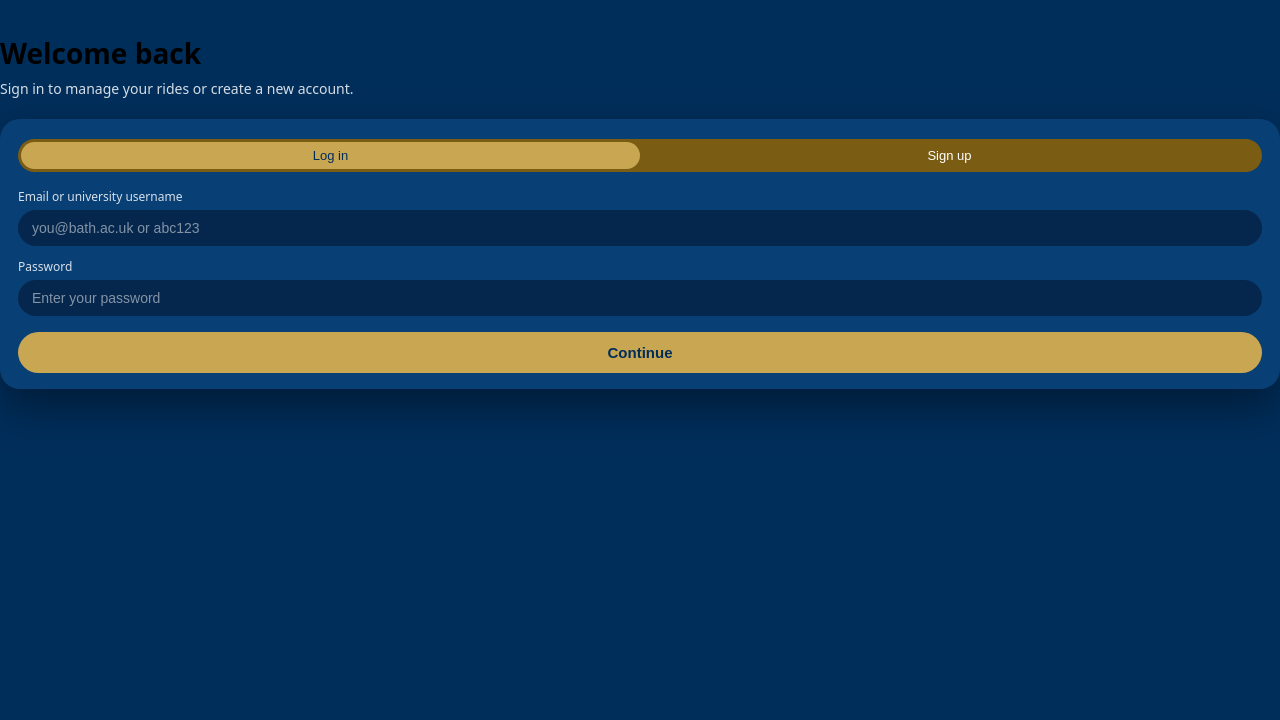
Test: LoginPage Component › shows an error if the signup form is missing first or last name
Click the button "Sign up". click: (950, 156)
box: [640,142,1259,169]
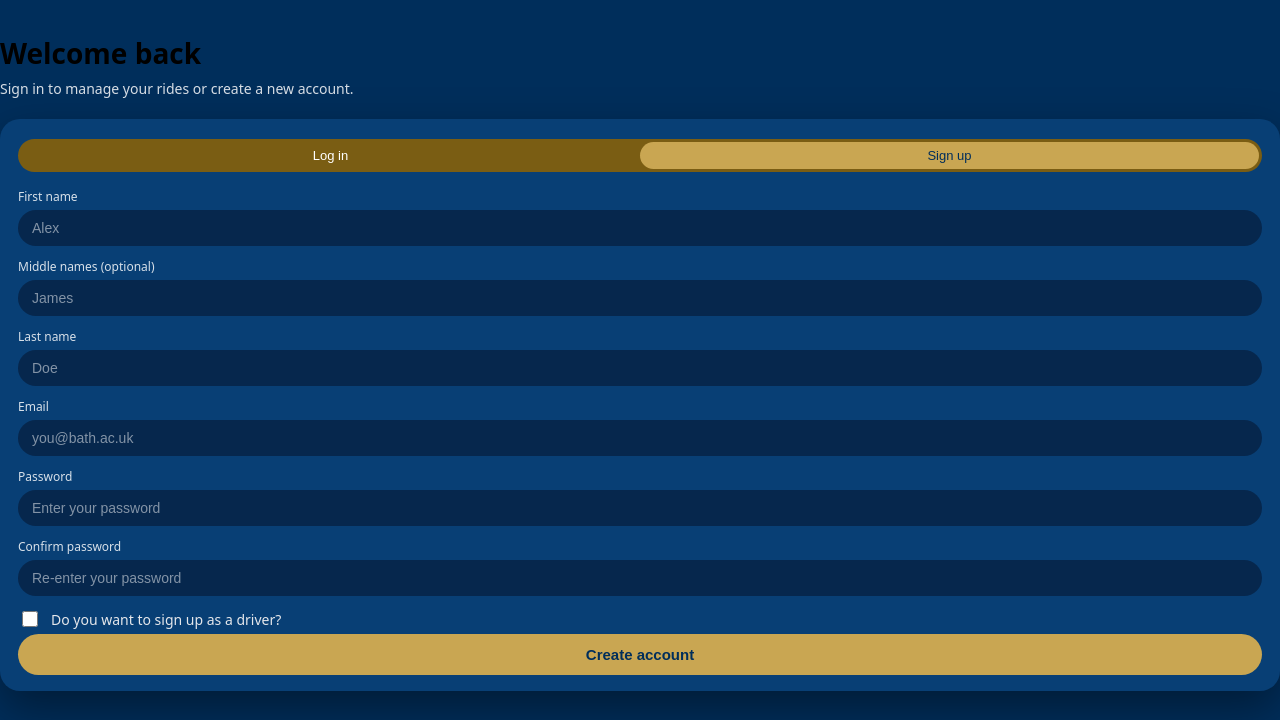
Type "john@bath.ac.uk" into the field labelled "Email". click: (640, 438)
box: [18,420,1262,456]
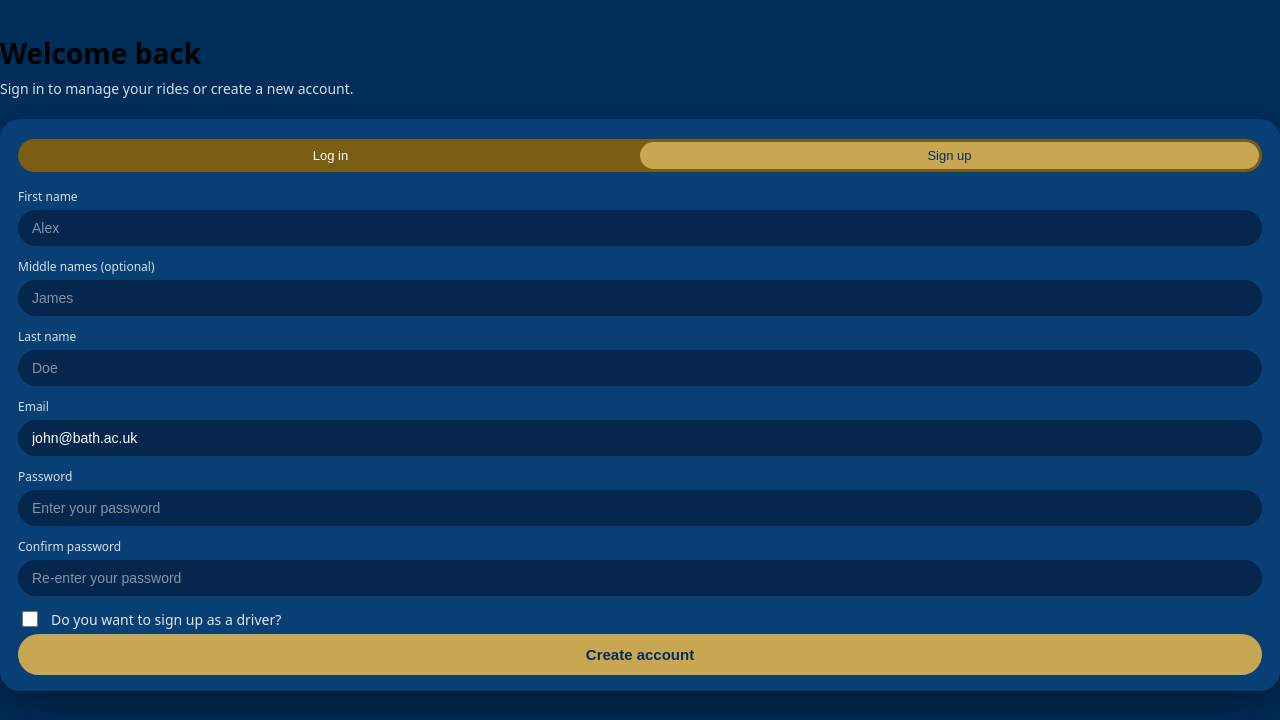
Type "password123" into the password field labelled "Password". click: (640, 508)
box: [18,490,1262,526]
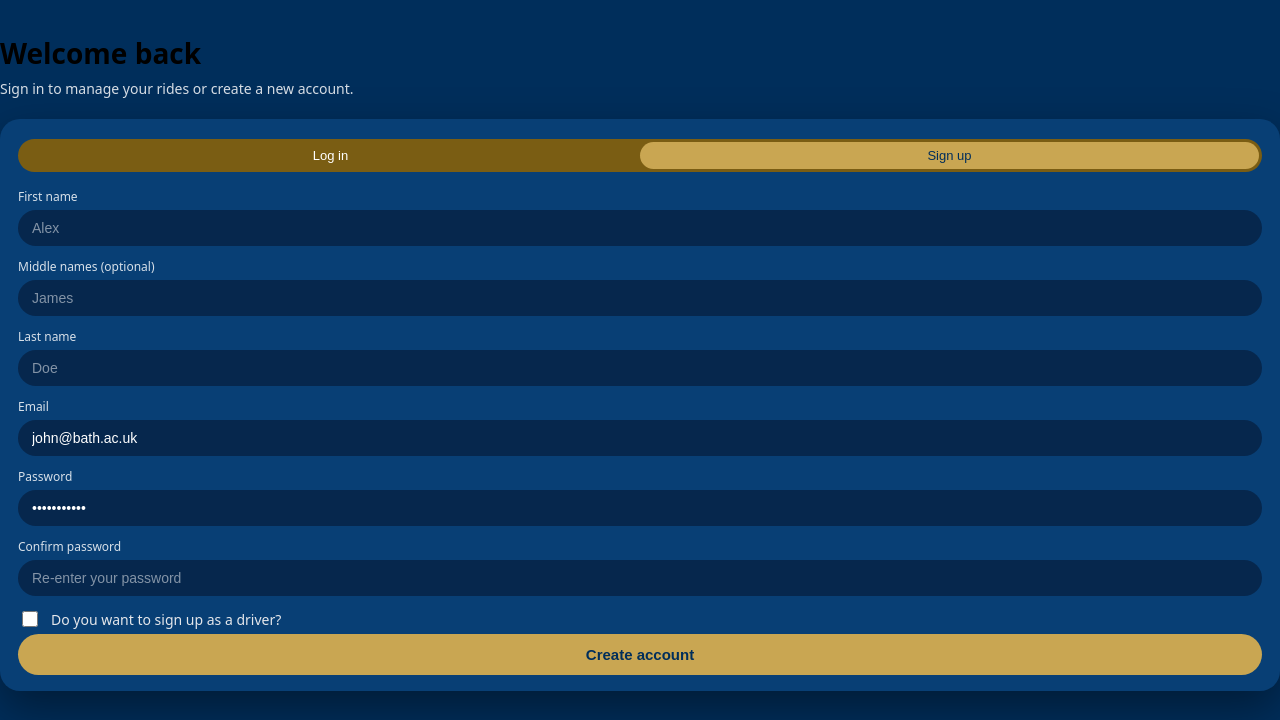
Type "password123" into the password field labelled "Confirm password". click: (640, 578)
box: [18,560,1262,596]
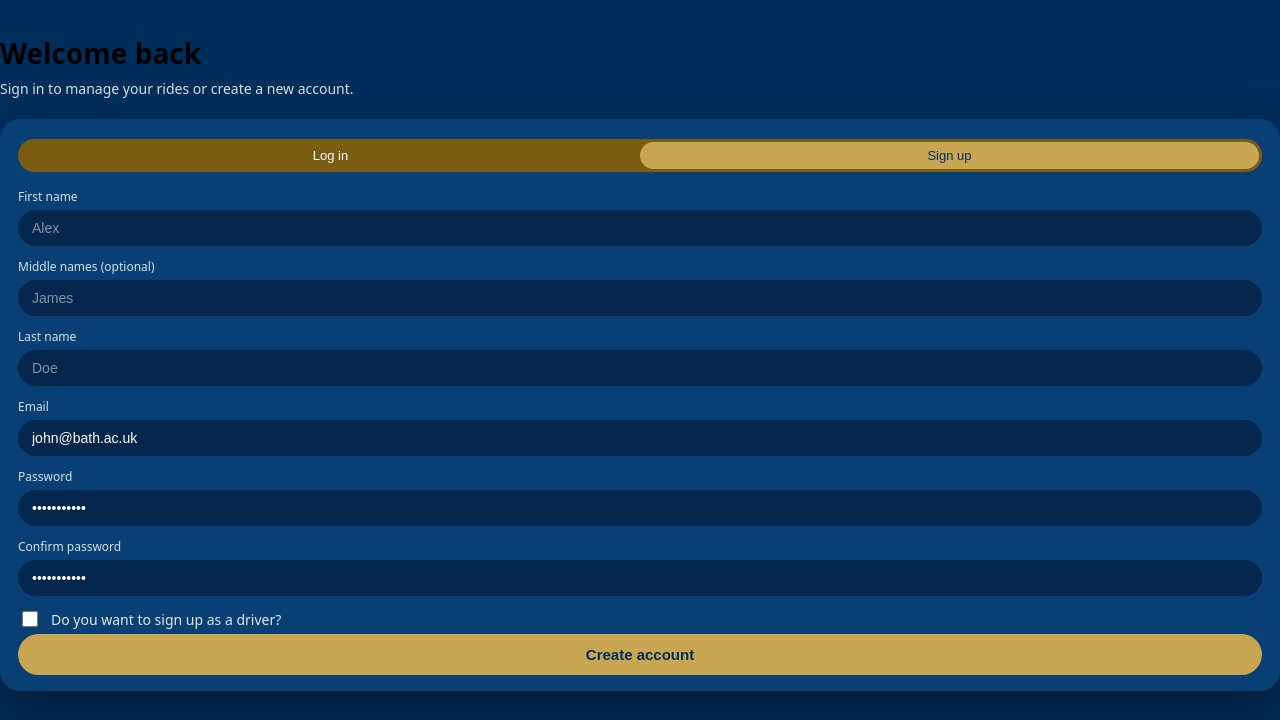
Expected: the form named "Create account" is shown
Submit the form named "Create account"
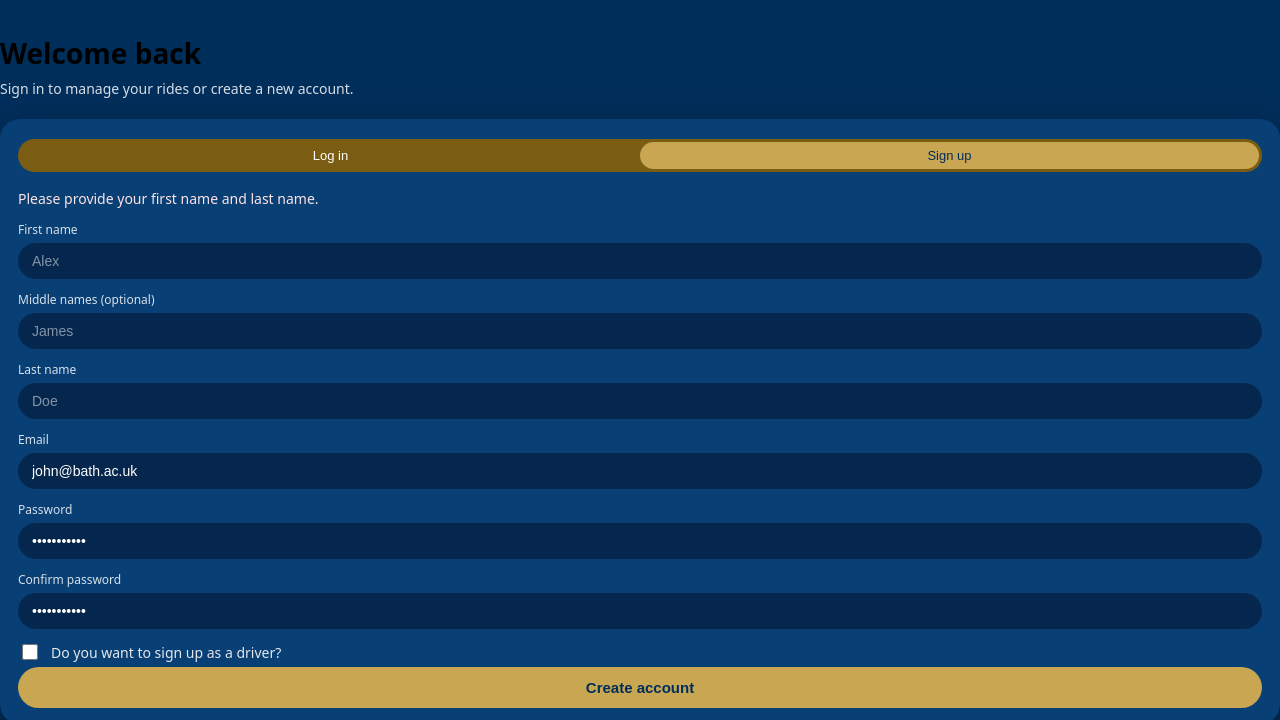
Expected: the text "Please provide your first name and last name." is shown, [18,189,318,208]
